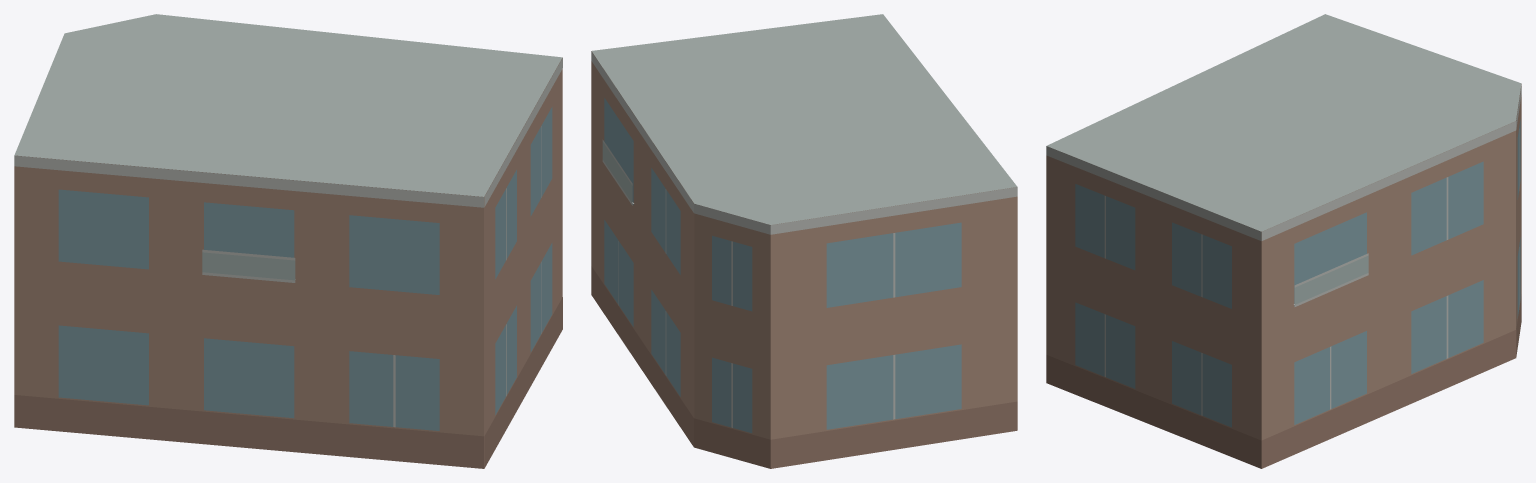
The model's file is survey-upis-32946849.glb.
The picture shows the model from 3 angles, left to right: view 1: azimuth 30°, elevation 25°; view 2: azimuth 150°, elevation 25°; view 3: azimuth 270°, elevation 25°; orthographic projection. The views are drawn at different scales.
Parts seen in each view (by area): view 1: survey-upis-32946849.tmp; view 2: survey-upis-32946849.tmp; view 3: survey-upis-32946849.tmp.
Boxes of the visible parts, x1=… form: survey-upis-32946849.tmp: x1=14, y1=14, x2=562, y2=468; survey-upis-32946849.tmp: x1=591, y1=14, x2=1017, y2=468; survey-upis-32946849.tmp: x1=1046, y1=14, x2=1521, y2=468.
Bounding box in the file's own units: 12.02 × 6.1 × 11.09.
